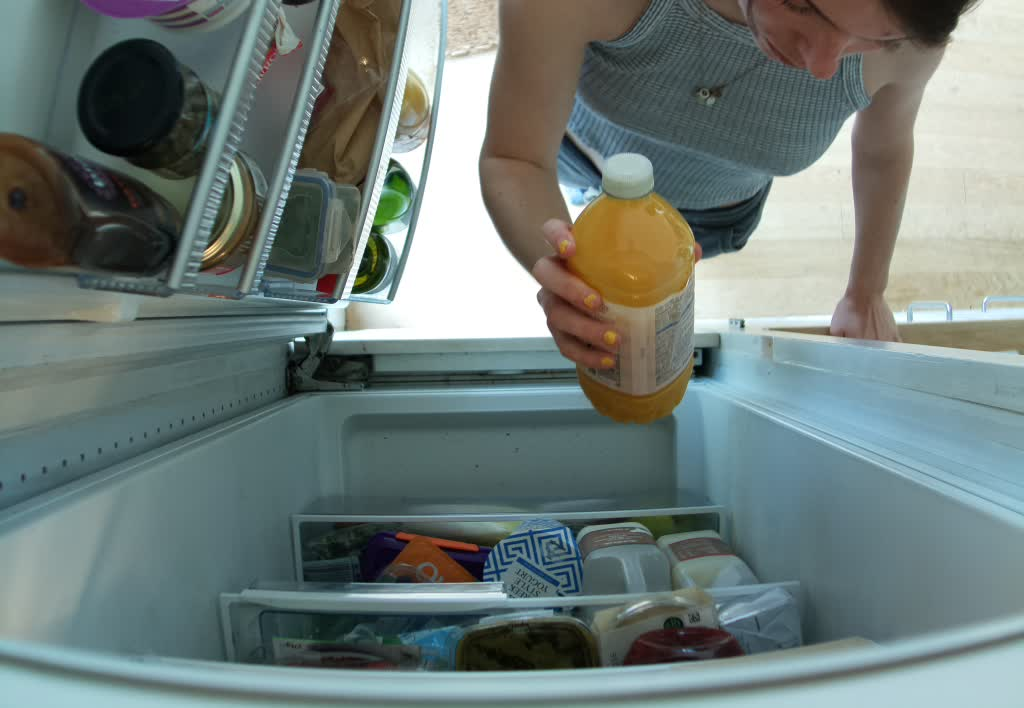juice: (561, 152, 703, 429)
